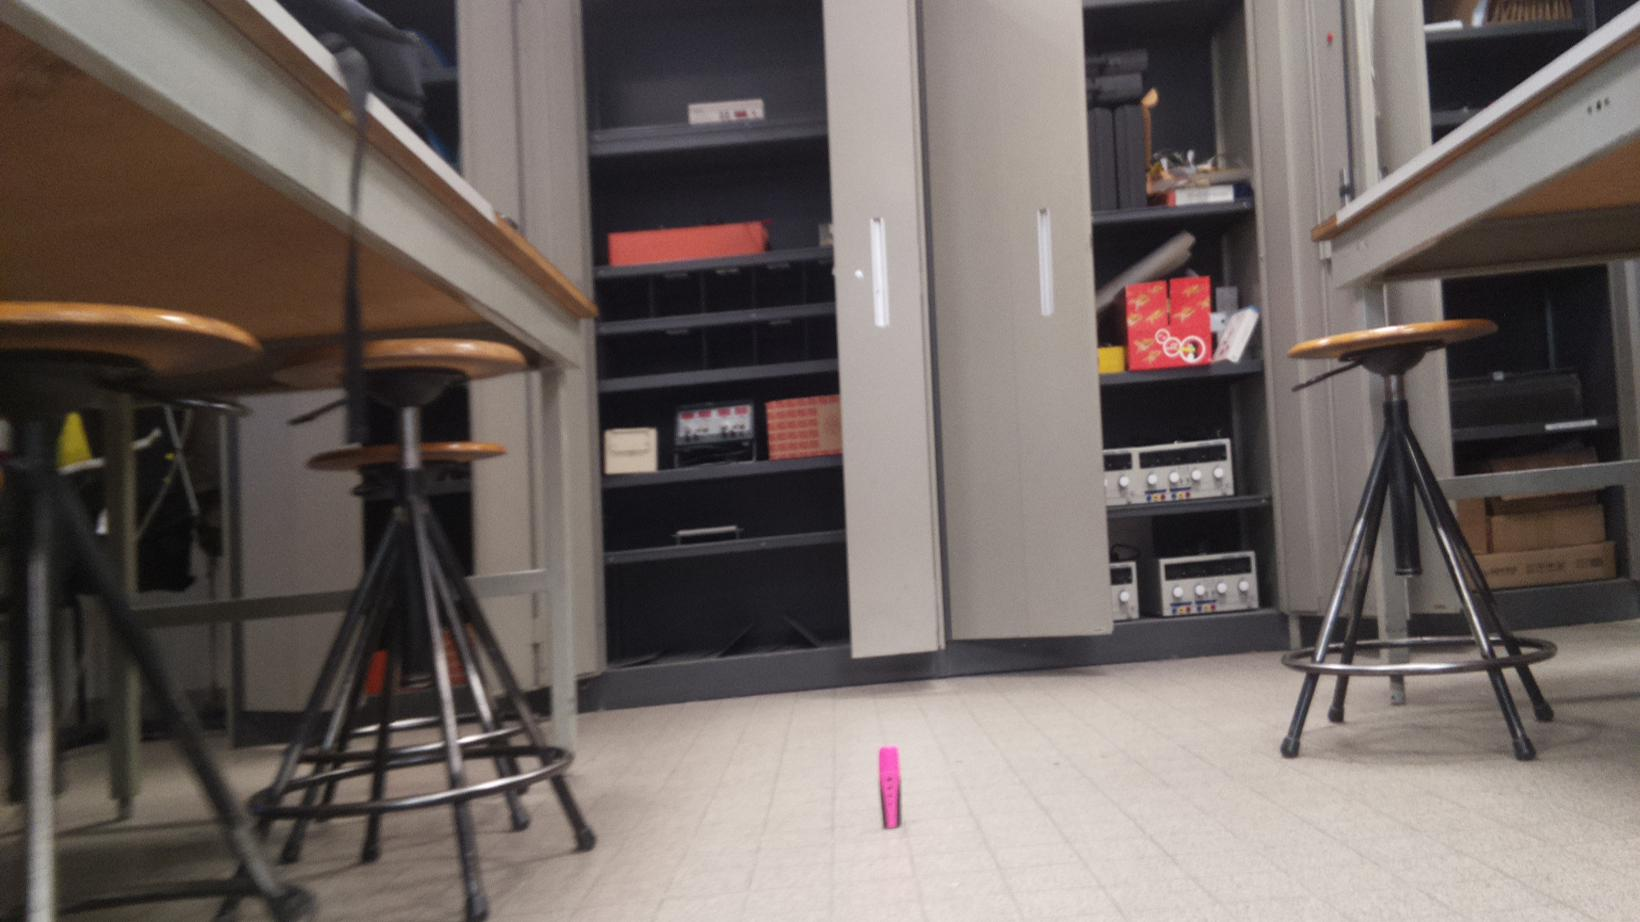small: (873, 741, 909, 836)
